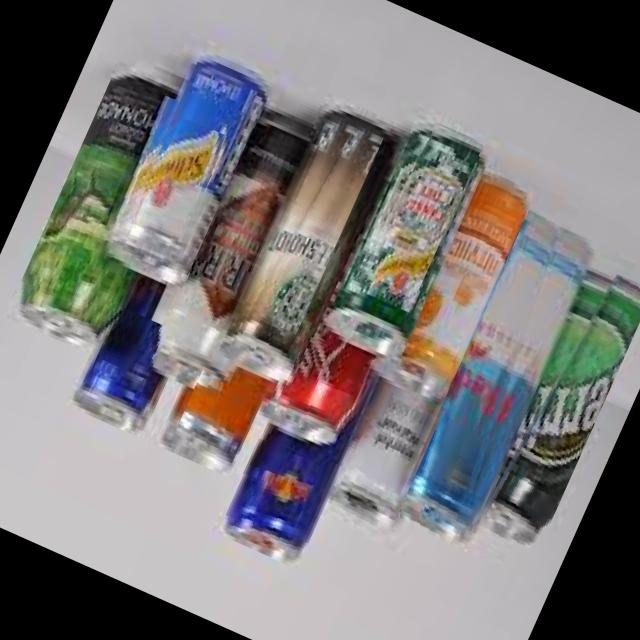Cans: (384, 204, 594, 560), (463, 260, 640, 571), (9, 70, 190, 339), (224, 113, 383, 377), (330, 118, 482, 354), (162, 127, 304, 355), (400, 167, 531, 389), (310, 380, 446, 574), (121, 114, 232, 272), (218, 428, 340, 560), (70, 306, 169, 448), (271, 330, 382, 447), (167, 372, 252, 470)
